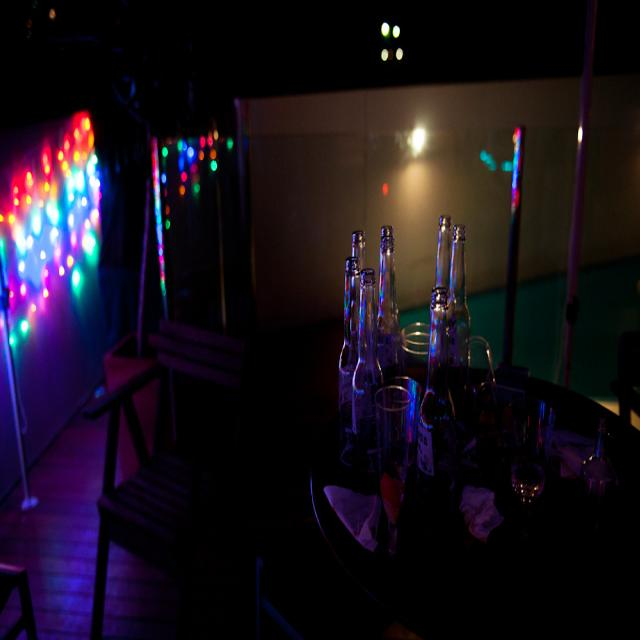Bottle: (331, 196, 367, 435), (429, 211, 468, 406), (352, 268, 384, 465), (418, 293, 449, 481), (441, 221, 474, 393), (382, 369, 411, 563), (374, 217, 403, 340)
Table: (251, 353, 640, 635)
chair: (83, 316, 264, 631), (610, 308, 640, 424)
